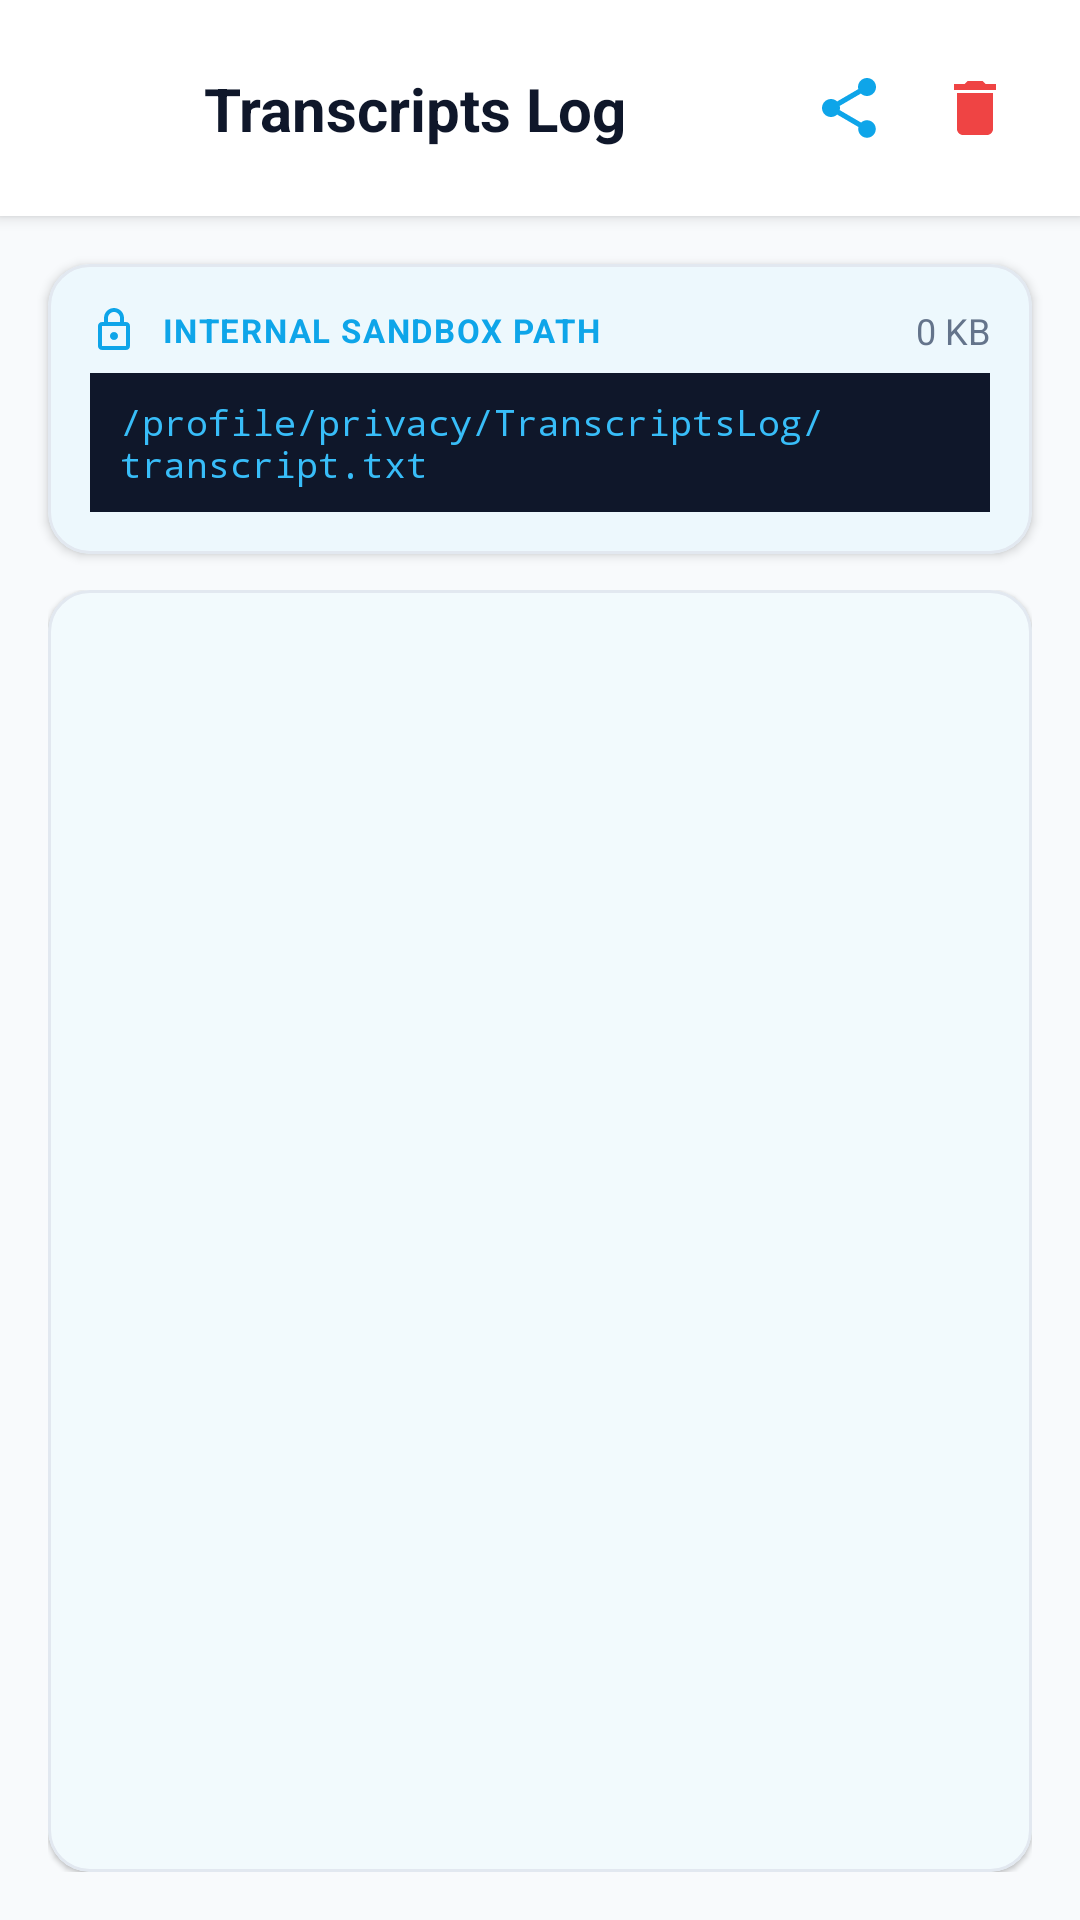

Screen size 1080 × 1920. Icon name, then its box in pixels as bbox(x1, y1, x2, y2):
Delete: bbox(954, 81, 996, 135)
Share: bbox(822, 78, 876, 138)
